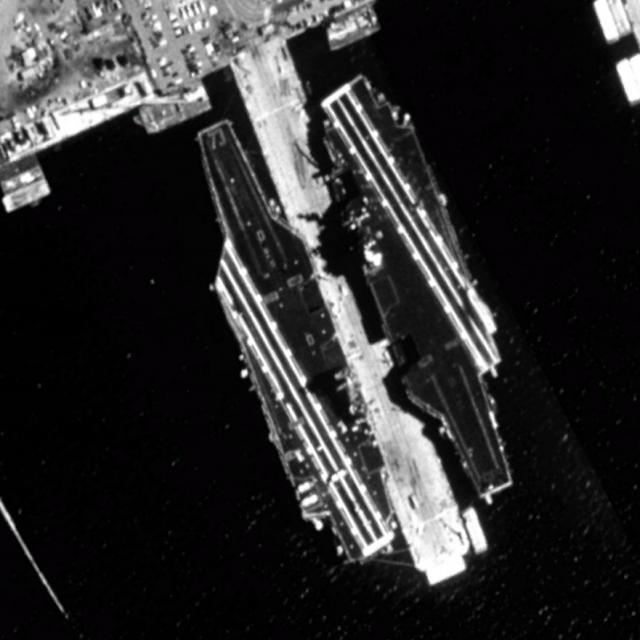Aircraft Carrier: (289, 58, 556, 521), (161, 104, 418, 582)
